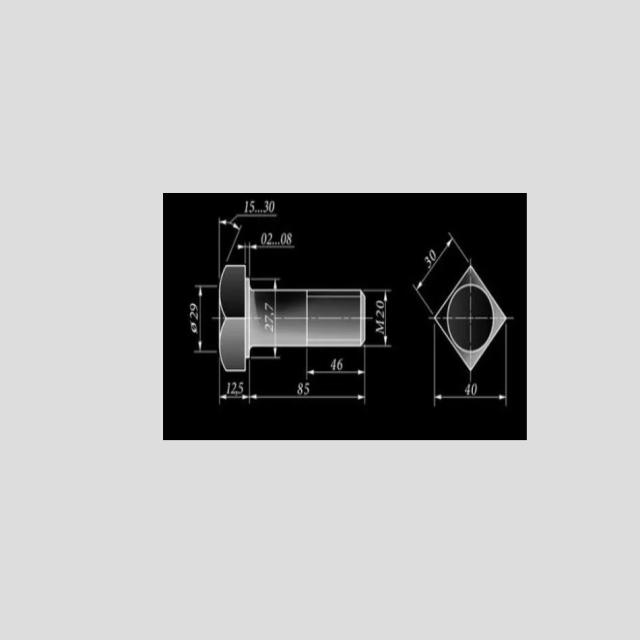marking_line: (253, 393, 366, 404), (437, 392, 506, 401), (197, 289, 204, 352), (252, 244, 297, 252), (308, 369, 364, 375), (383, 293, 389, 346), (220, 394, 249, 402)
numeric: (423, 246, 436, 268), (226, 381, 246, 395), (374, 297, 385, 320), (297, 382, 312, 396), (188, 302, 199, 321), (330, 358, 346, 371), (243, 197, 255, 214), (263, 198, 275, 215), (464, 382, 478, 395)
special_symbol: (216, 216, 238, 265), (189, 322, 199, 337)
